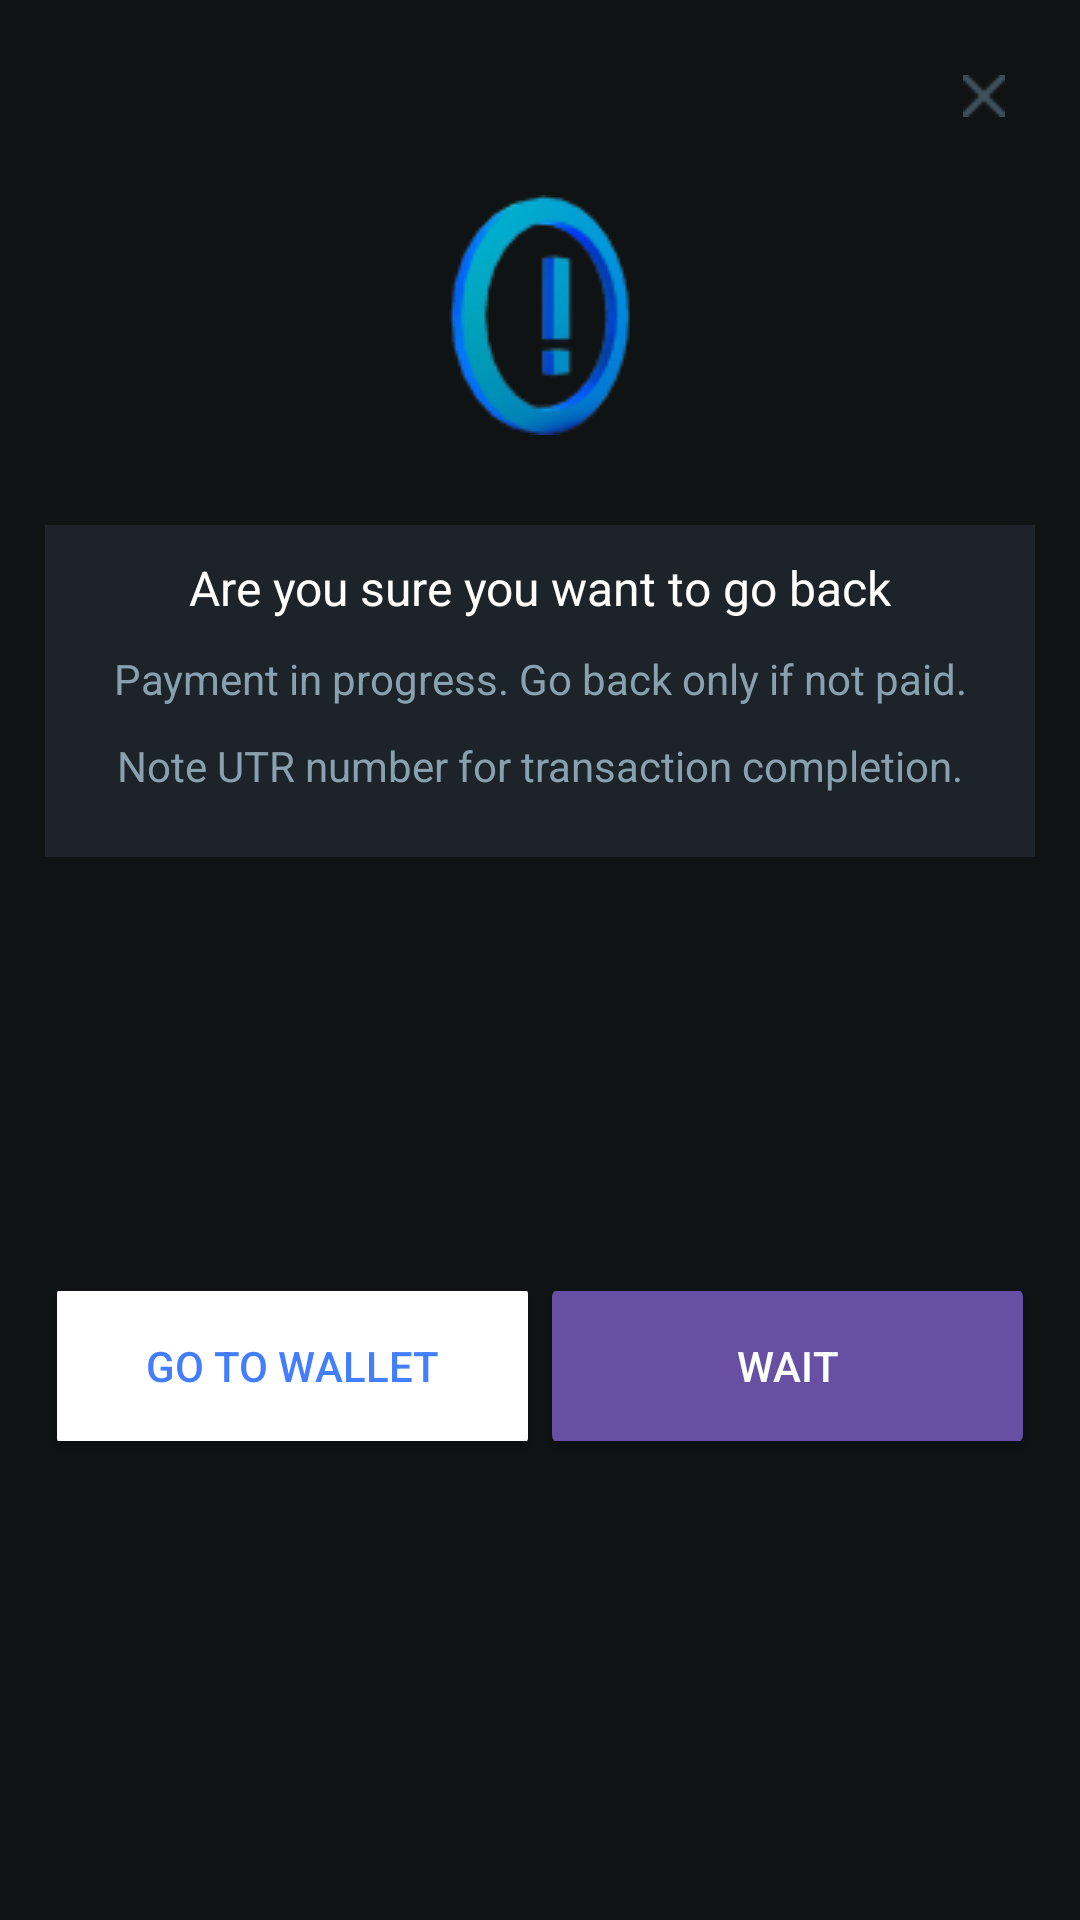

Where to tap for icons on this 1080 × 1920 app screen, as point (x, y):
cross: point (984, 96)
